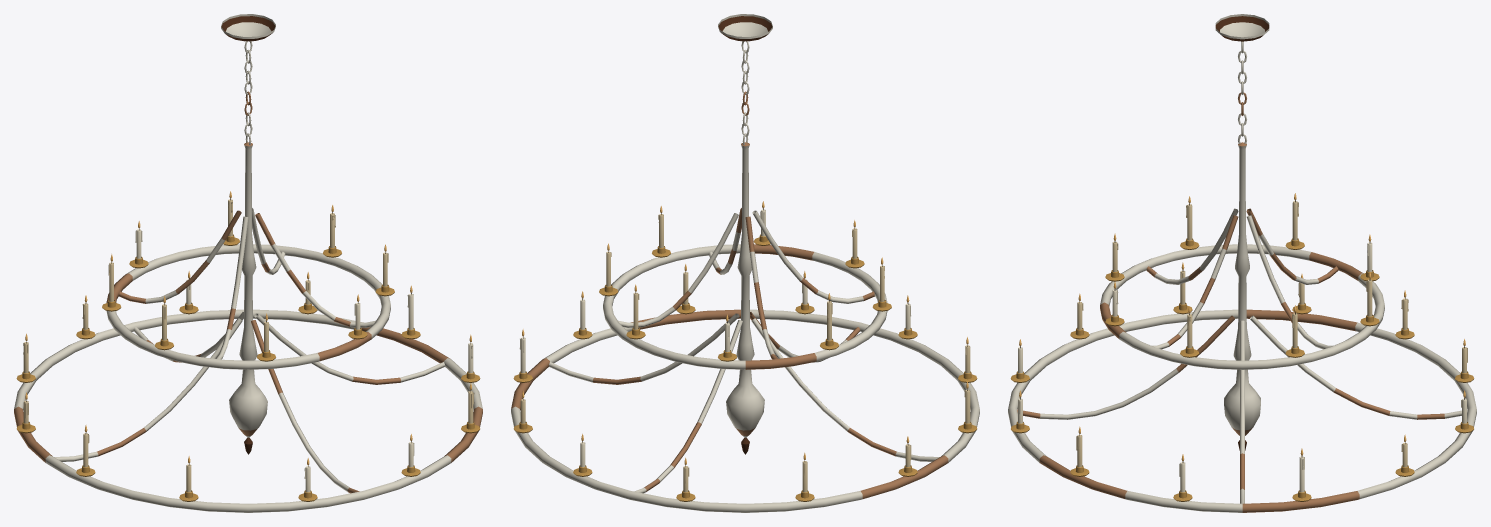
The model's file is chandelier_iron.glb.
3 renders of one model, left to right at view 1: azimuth 30°, elevation 25°; view 2: azimuth 150°, elevation 25°; view 3: azimuth 270°, elevation 25°, orthographic.
Visible parts, largest first — view 1: kronleuchter; view 2: kronleuchter; view 3: kronleuchter.
Part boxes in pixels (x1,y1,x2,y2): kronleuchter: (14,14,482,512); kronleuchter: (511,14,979,512); kronleuchter: (1008,14,1476,512).
Bounding box in the file's own units: 2.04 × 2.06 × 2.04.
